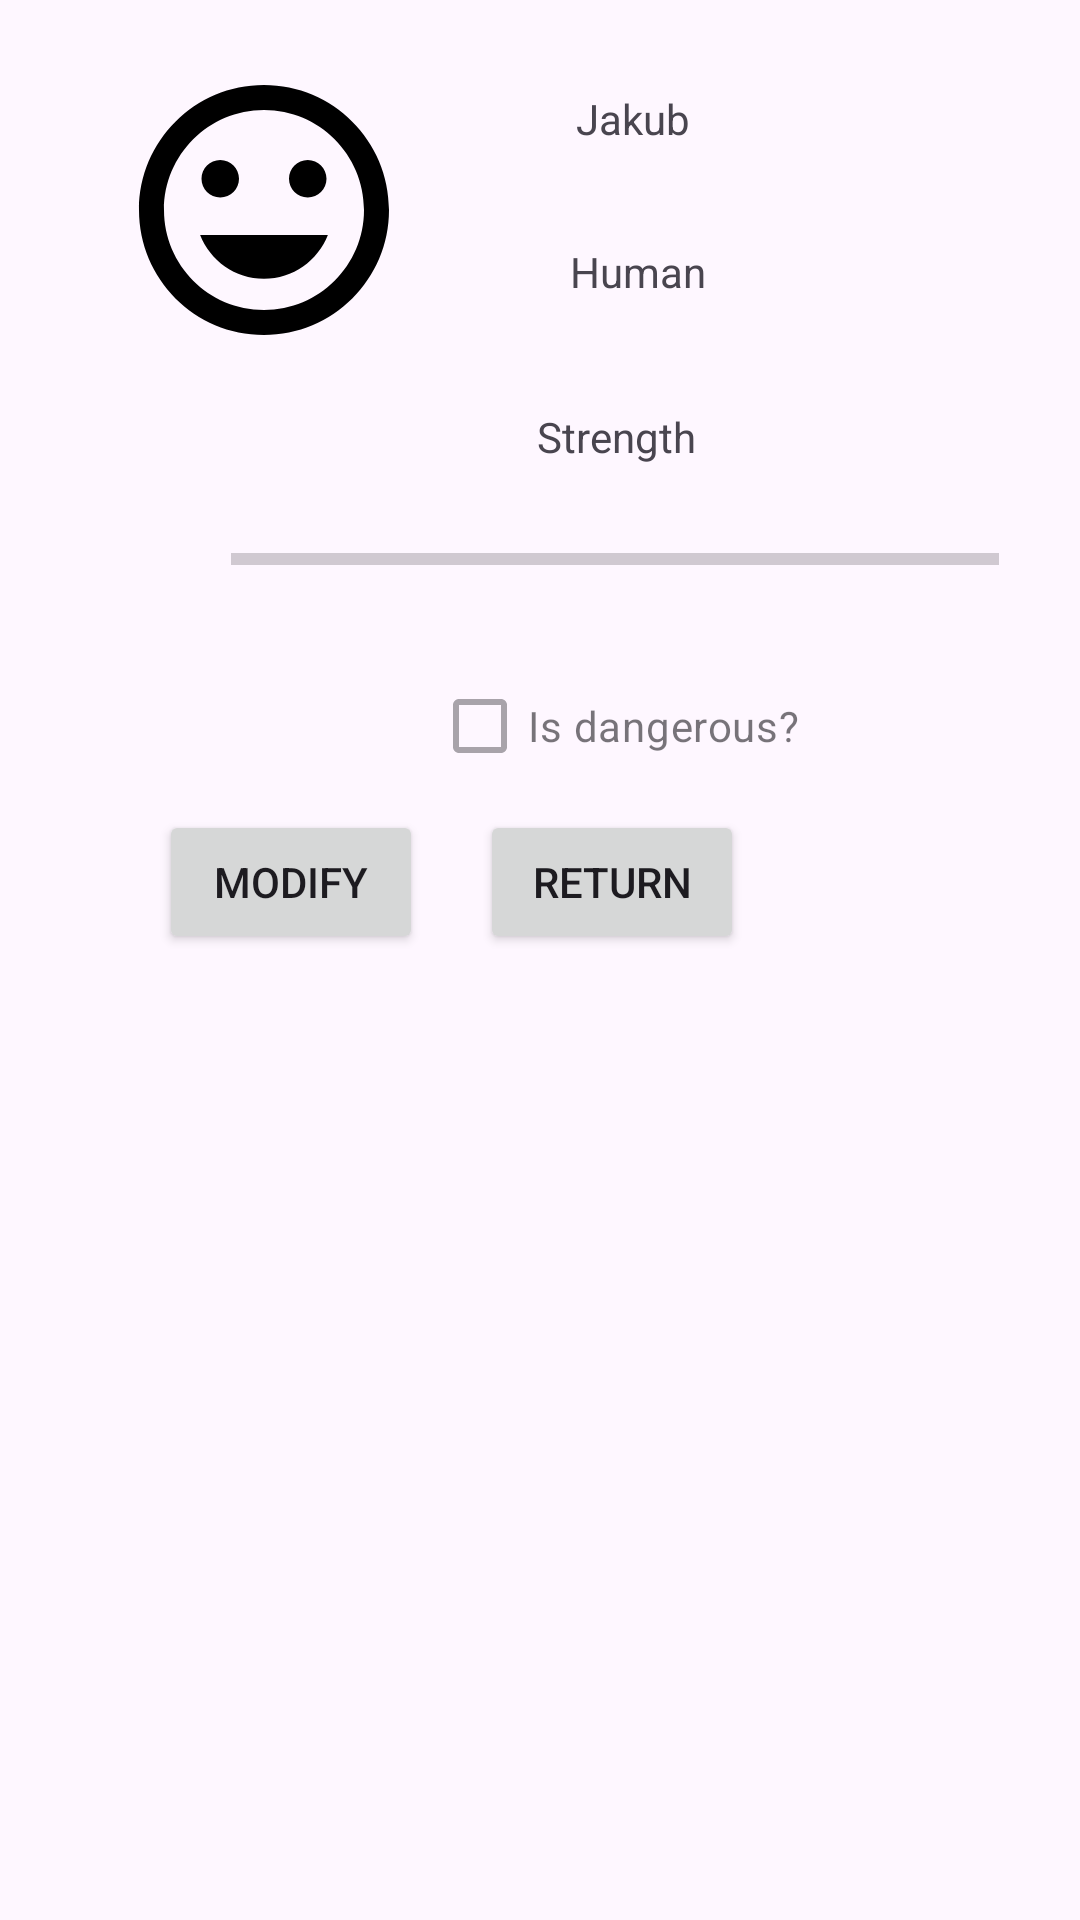

Icon bounding boxes for this 1080*1920 phone screenshot, format [x1=x1, y1=y1, x2=x2, y2=y2]:
human: [x1=139, y1=85, x2=389, y2=335]
